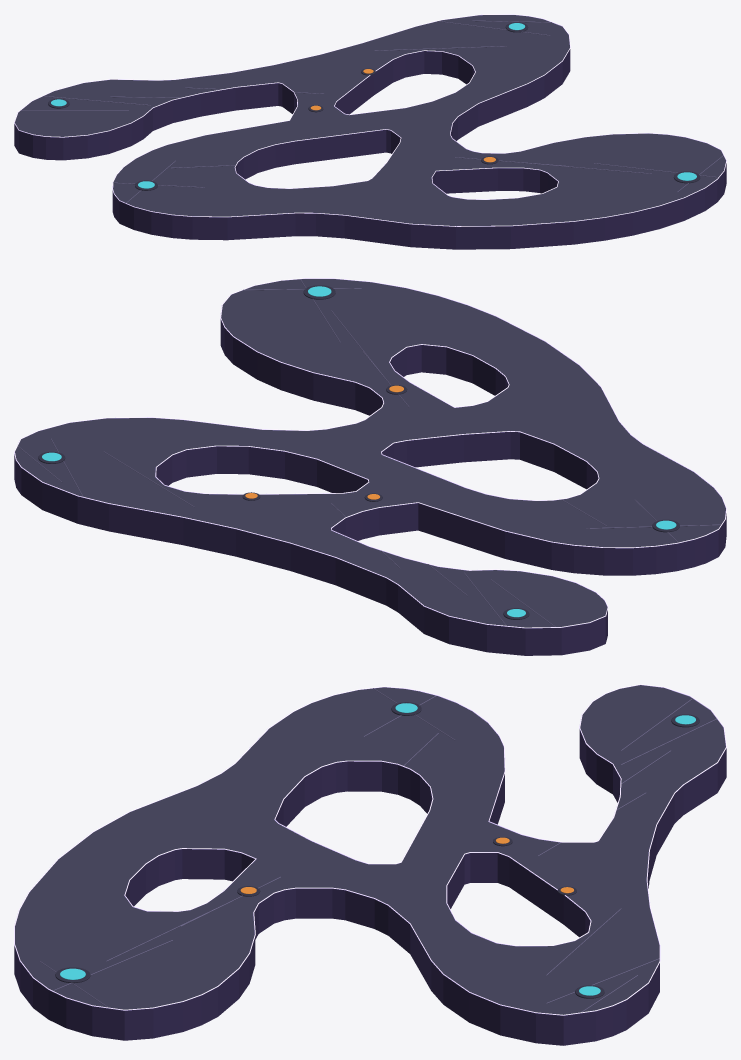
Rendered from momentum_circuit_foreground.glb.
3 renders of one model, top to bottom at view 1: azimuth 30°, elevation 25°; view 2: azimuth 150°, elevation 25°; view 3: azimuth 270°, elevation 25°, orthographic. The views are drawn at different scales.
Parts seen in each view (by area): view 1: PlatformTopSurface, Foreground_DeckSideCeramic, StaticDeckRim, Foreground_DeckSeamCeramic, Foreground_FixtureCeramic, Foreground_StabilizerCyanInset; view 2: PlatformTopSurface, Foreground_DeckSideCeramic, StaticDeckRim, Foreground_DeckSeamCeramic, Foreground_FixtureCeramic, Foreground_StabilizerCyanInset; view 3: PlatformTopSurface, Foreground_DeckSideCeramic, StaticDeckRim, Foreground_DeckSeamCeramic, Foreground_FixtureCeramic, Foreground_StabilizerCyanInset.
Boxes of the visible parts, x1,y1,x2,y2 form: PlatformTopSurface: (15, 15, 725, 226); Foreground_DeckSideCeramic: (14, 49, 726, 249); StaticDeckRim: (14, 14, 726, 226); Foreground_DeckSeamCeramic: (20, 20, 723, 202); Foreground_FixtureCeramic: (48, 22, 700, 190); Foreground_StabilizerCyanInset: (51, 23, 696, 188); PlatformTopSurface: (15, 279, 725, 627); Foreground_DeckSideCeramic: (14, 319, 726, 655); StaticDeckRim: (14, 278, 726, 628); Foreground_DeckSeamCeramic: (17, 279, 720, 626); Foreground_FixtureCeramic: (38, 285, 679, 619); Foreground_StabilizerCyanInset: (42, 286, 676, 617); PlatformTopSurface: (15, 685, 725, 1014); Foreground_DeckSideCeramic: (14, 729, 726, 1045); StaticDeckRim: (14, 684, 726, 1015); Foreground_DeckSeamCeramic: (39, 688, 716, 1012); Foreground_FixtureCeramic: (55, 702, 699, 998); Foreground_StabilizerCyanInset: (60, 703, 695, 995).
Size of the model in its own units: 94.36 by 4.27 by 85.87.
